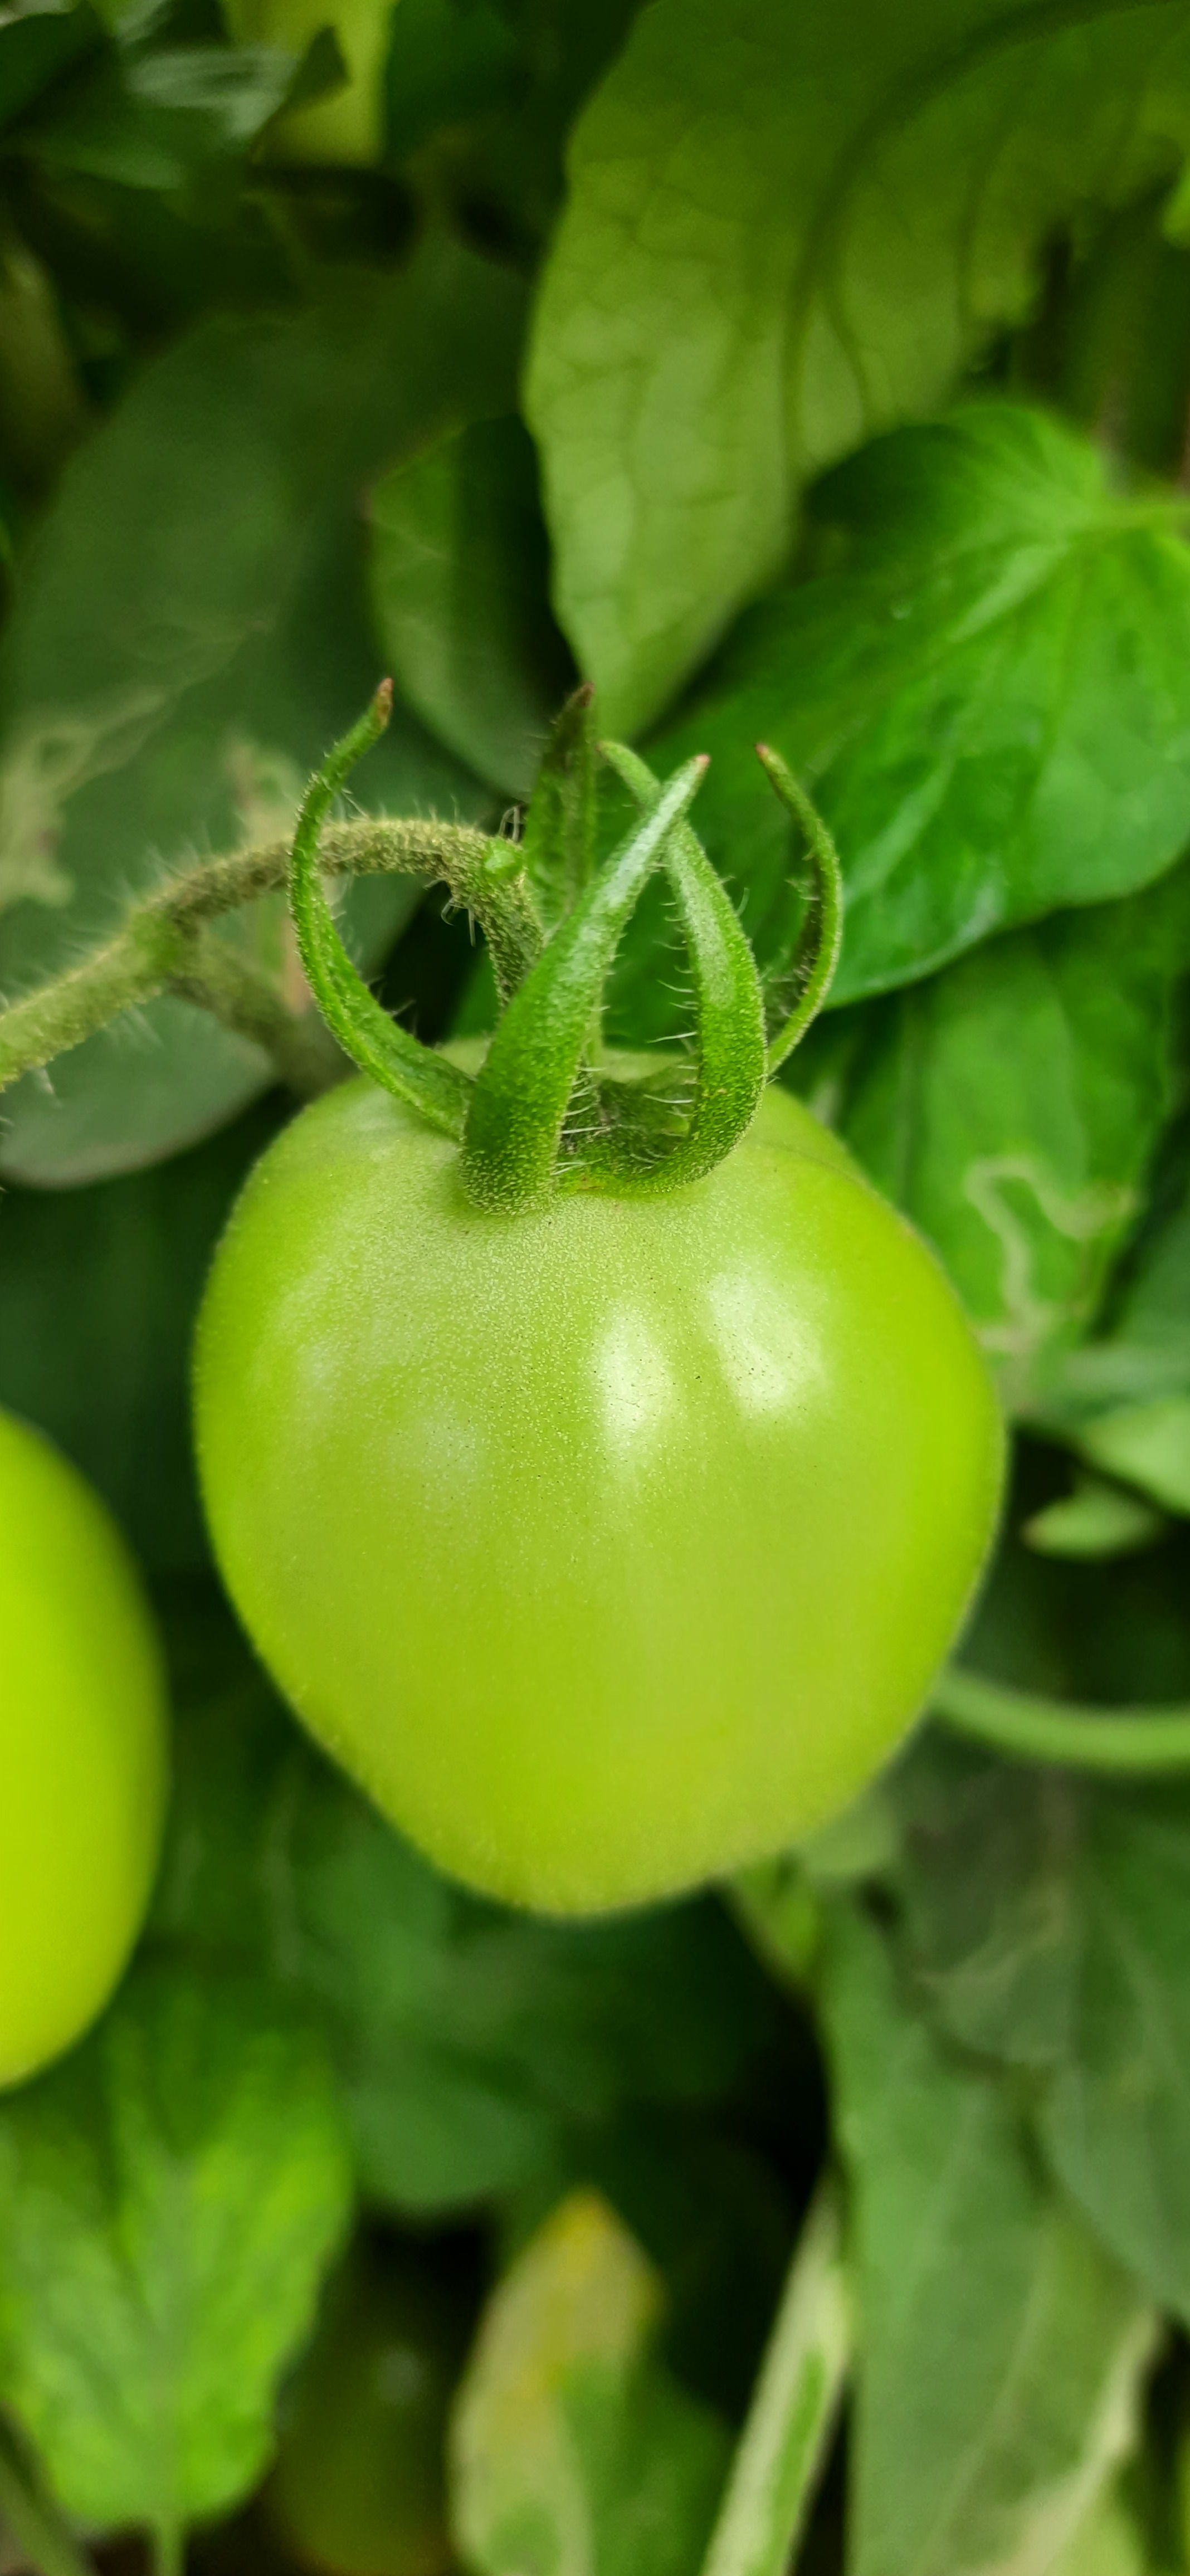raw_tomato: (176, 977, 1088, 2027)
